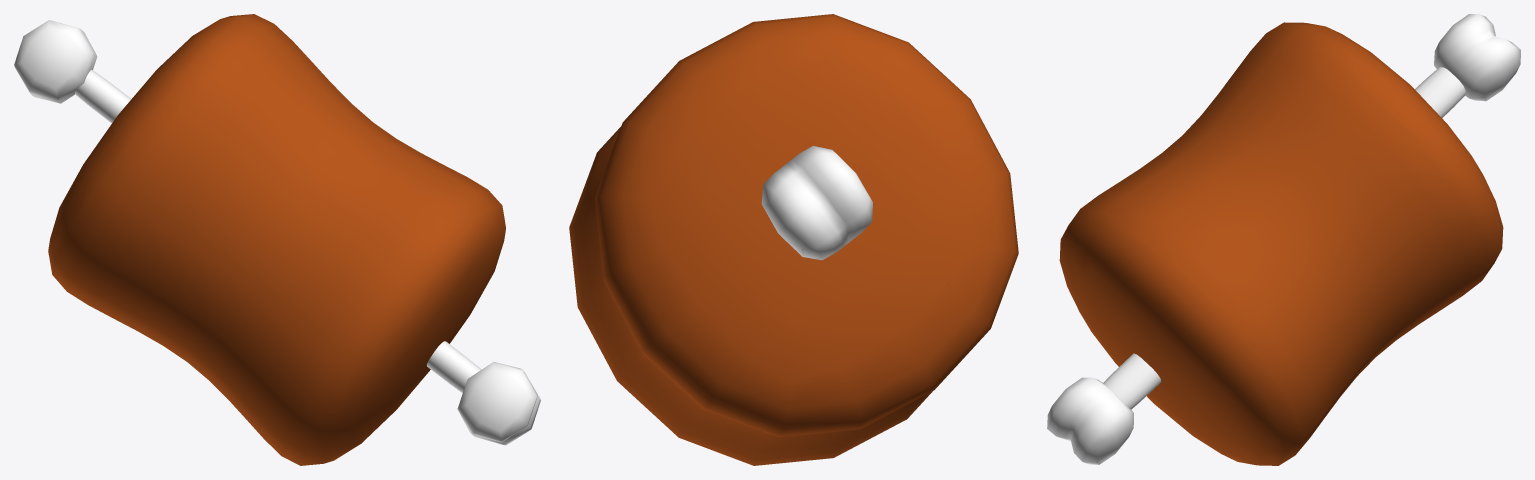
The model's file is meat.fbx.
3 views of the same model, side by side, from view 1: azimuth 30°, elevation 25°; view 2: azimuth 150°, elevation 25°; view 3: azimuth 270°, elevation 25° (orthographic). The views are drawn at different scales.
Parts seen in each view (by area): view 1: Cube; view 2: Cube; view 3: Cube.
Part boxes in pixels (x1,y1,x2,y2): Cube: [14, 14, 540, 465]; Cube: [569, 14, 1018, 465]; Cube: [1047, 14, 1520, 465].
Bounding box in the file's own units: 95.85 × 95.85 × 105.
Materials: 1 (1 with a texture image).
